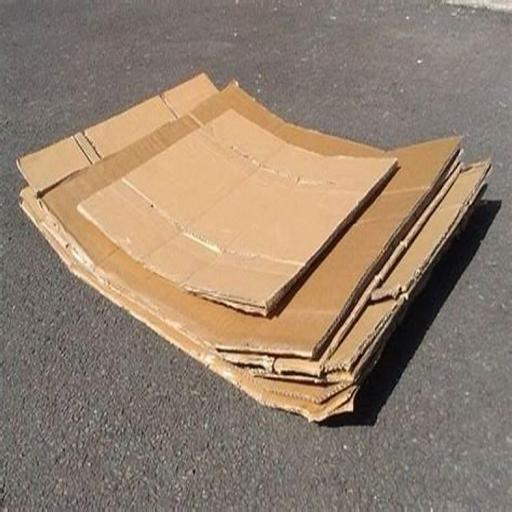cardboard: (17, 72, 494, 425)
